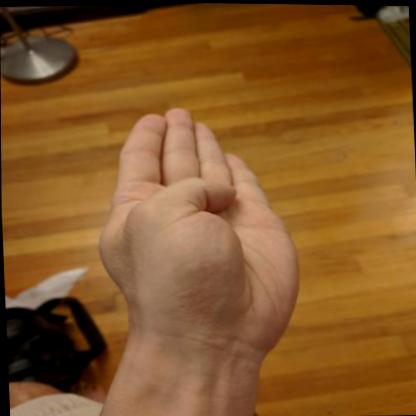B: (87, 95, 311, 378)
